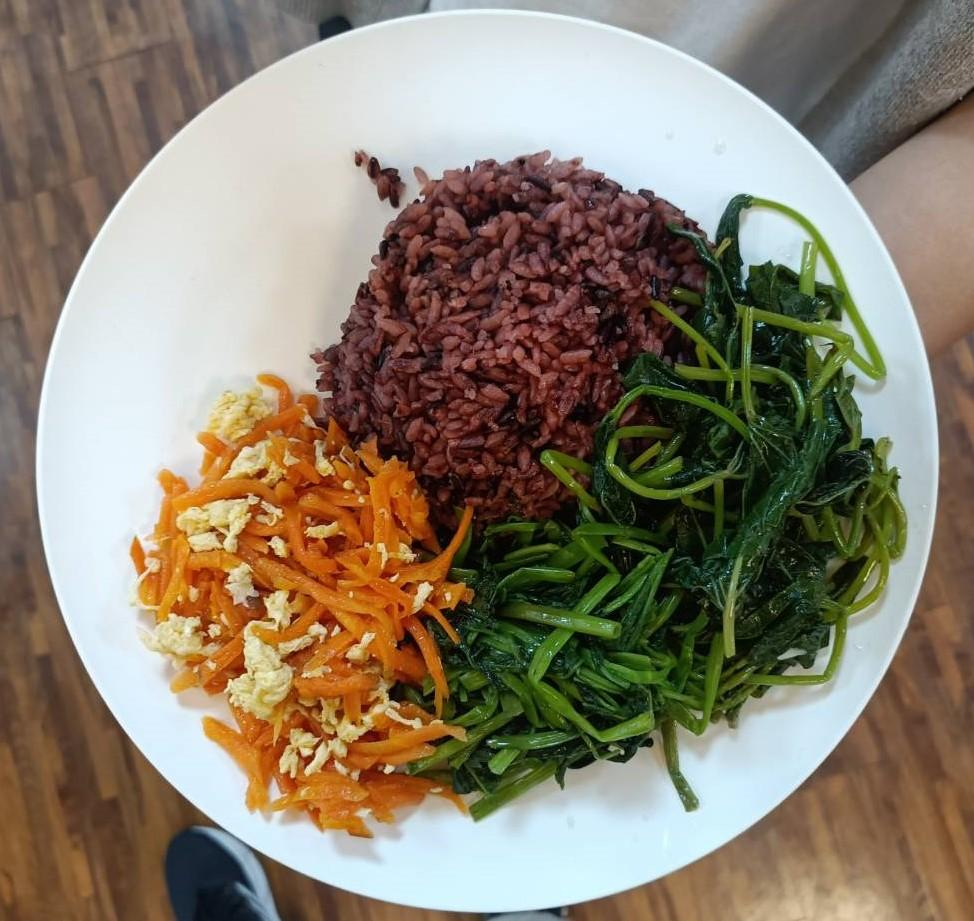big fried chicken leg: (32, 4, 947, 921)
braised fish: (318, 153, 705, 542)
braised fish fillet: (438, 189, 910, 819), (126, 374, 460, 838)
